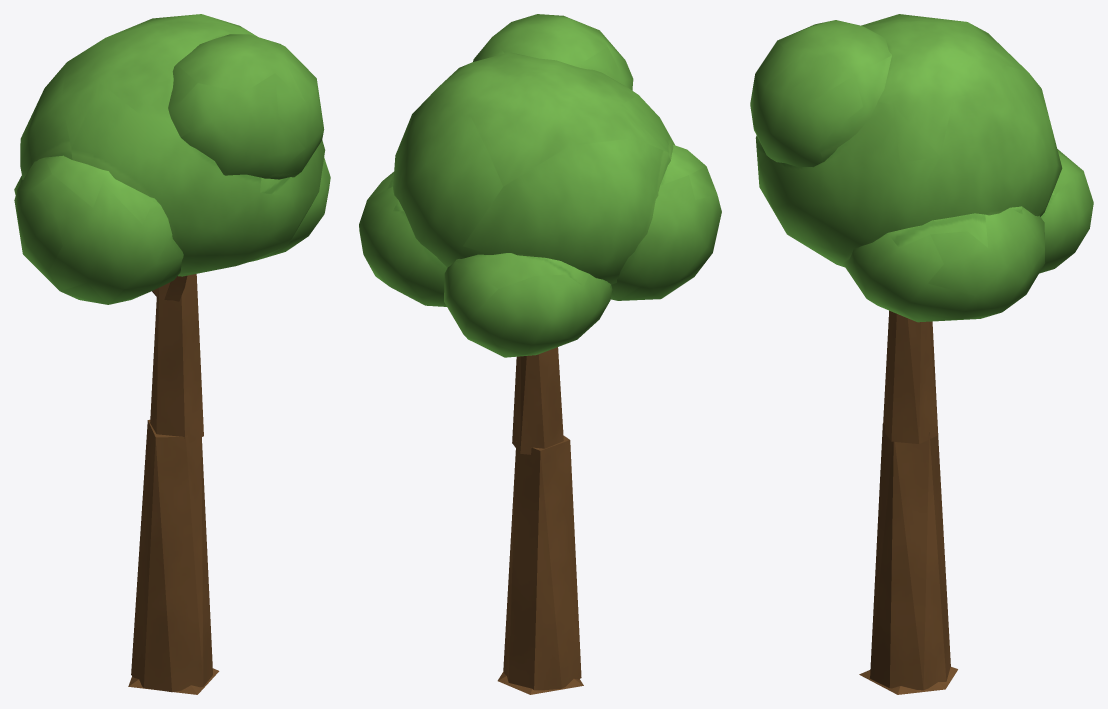
The model's file is broadleaf_b.lo.glb.
The picture shows the model from 3 angles, left to right: view 1: azimuth 30°, elevation 25°; view 2: azimuth 150°, elevation 25°; view 3: azimuth 270°, elevation 25°; orthographic projection. The views are drawn at different scales.
Parts seen in each view (by area): view 1: broadleaf; view 2: broadleaf; view 3: broadleaf.
Boxes of the visible parts, box(x1,y1,x2,y2) form: broadleaf: box(14, 14, 330, 694); broadleaf: box(359, 14, 721, 694); broadleaf: box(750, 14, 1093, 694).
Size of the model in its own units: 4.36 by 8.4 by 3.98.
Materials: 1 (1 with a texture image).
